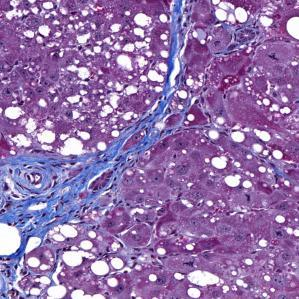fibrosis: (7, 153, 114, 229), (124, 98, 197, 153), (168, 6, 191, 76)
